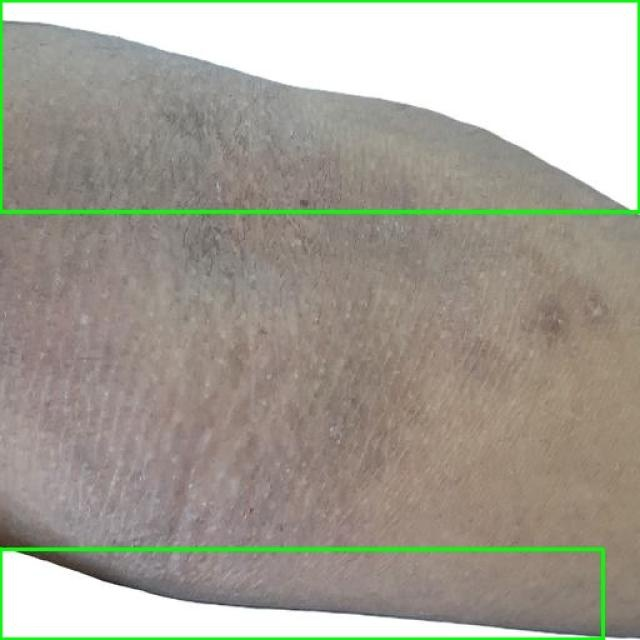Contact Dermatitis: (0, 0, 639, 211), (0, 549, 602, 639)
